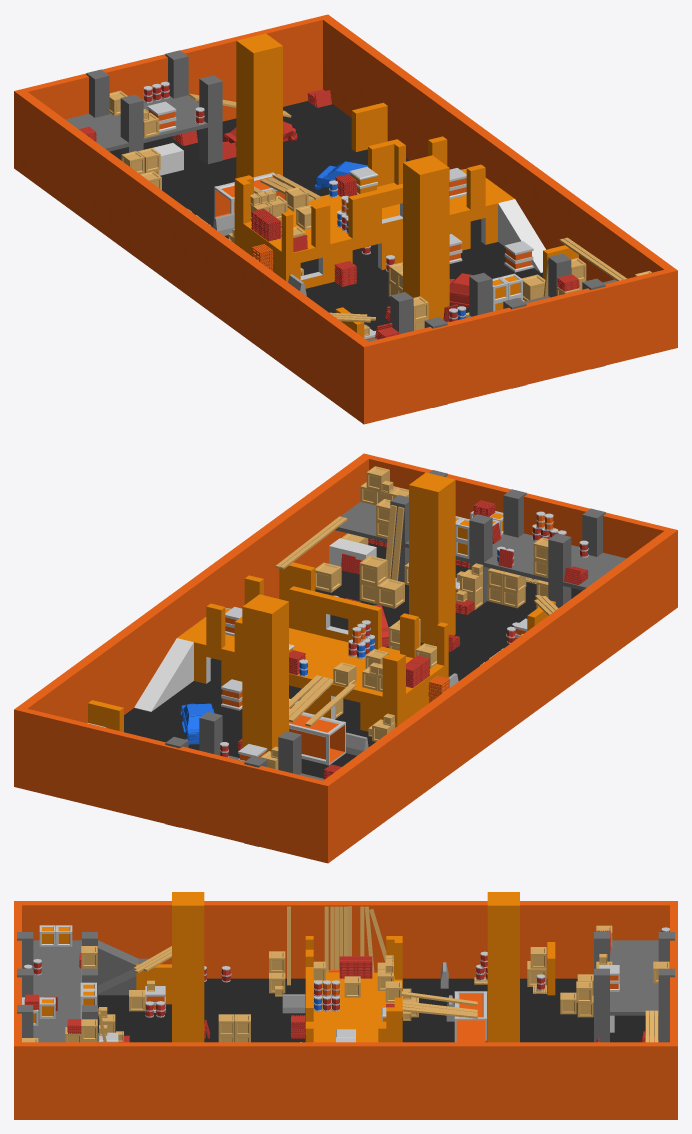
Rendered from sf-map-d41a19f6.glb.
3 renders of one model, top to bottom at view 1: azimuth 30°, elevation 25°; view 2: azimuth 150°, elevation 25°; view 3: azimuth 270°, elevation 25°, orthographic. The views are drawn at different scales.
Parts seen in each view (by area): view 1: floors, room, Plane, Cube.016, obj.048, obj.049, Cube.004, Cube.001, obj.004, Cube.005, BigBox.004, Cube.011 (+2 smaller); view 2: floors, room, Plane, Cube.004, obj.048, obj.049, Cube.016, Cube.002, Cube.005, obj.002, obj.004, Cube.017 (+4 smaller); view 3: floors, Plane, Cube.016, Cube.004, room, obj.048, obj.049, up2, Cube.005, Cube.030, obj.024, Cube.023 (+17 smaller).
Part boxes in pixels (x1,y1,x2,y2): floors: (14, 14, 677, 424); room: (234, 136, 514, 288); Plane: (110, 101, 542, 330); Cube.016: (65, 50, 222, 164); obj.048: (403, 155, 449, 319); obj.049: (236, 33, 282, 178); Cube.004: (367, 253, 616, 407); Cube.001: (498, 199, 545, 272); obj.004: (351, 102, 387, 151); Cube.005: (214, 172, 286, 217); BigBox.004: (504, 241, 533, 272); Cube.011: (153, 143, 183, 175); floors: (14, 453, 677, 863); room: (177, 575, 448, 731); Plane: (124, 543, 581, 778); Cube.004: (335, 470, 626, 608); obj.048: (409, 472, 455, 645); obj.049: (242, 594, 288, 752); Cube.016: (165, 712, 323, 846); Cube.002: (134, 638, 193, 711); Cube.005: (289, 709, 345, 765); obj.002: (279, 562, 315, 601); obj.004: (88, 700, 123, 731); Cube.017: (329, 538, 376, 566); floors: (14, 901, 677, 1119); Plane: (98, 978, 658, 1042); Cube.016: (594, 932, 674, 1042); Cube.004: (17, 932, 97, 1042); room: (305, 936, 402, 1042); obj.048: (172, 892, 204, 1042); obj.049: (487, 892, 519, 1042); up2: (98, 940, 148, 995); Cube.005: (454, 991, 487, 1042); Cube.030: (330, 906, 347, 969); obj.024: (136, 964, 171, 1004); Cube.023: (360, 906, 374, 972).
Bounding box in the file's own units: 8.5 × 4.05 × 16.4.
